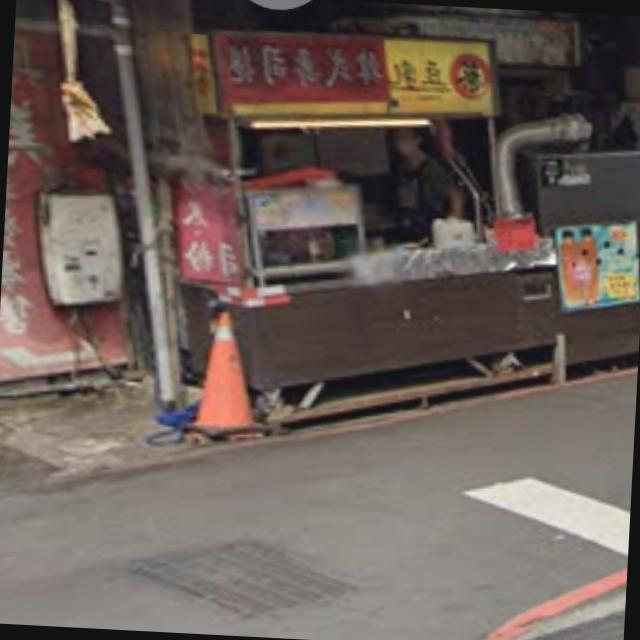cone: (184, 292, 278, 458)
